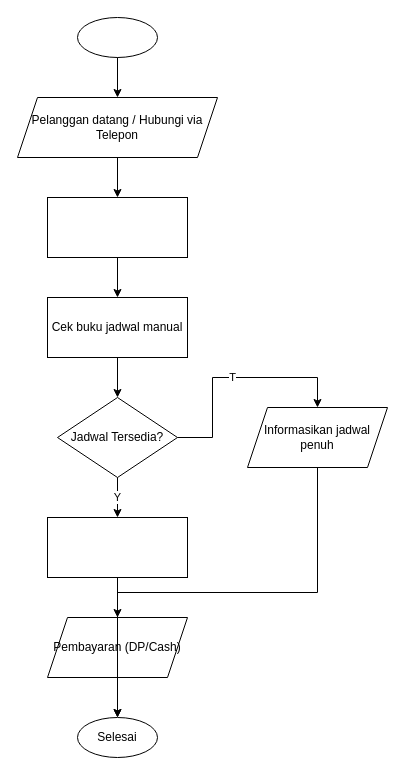
Image size: 405x775. Some labels were removed from this diagram. The centre of each missing label's shape, as x and y in pixels:
"Catat booking di buku besar" belongs at [117,547].
"Mulai" belongs at [117,37].
"Tanya ketersediaan jadwal" belongs at [117,227].
